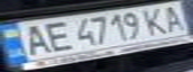1: (106, 11, 127, 42)
4: (72, 16, 96, 47)
7: (90, 14, 112, 45)
9: (121, 9, 145, 39)
A: (15, 21, 54, 56), (157, 2, 190, 34)
E: (39, 19, 75, 53)
K: (139, 6, 175, 35)
